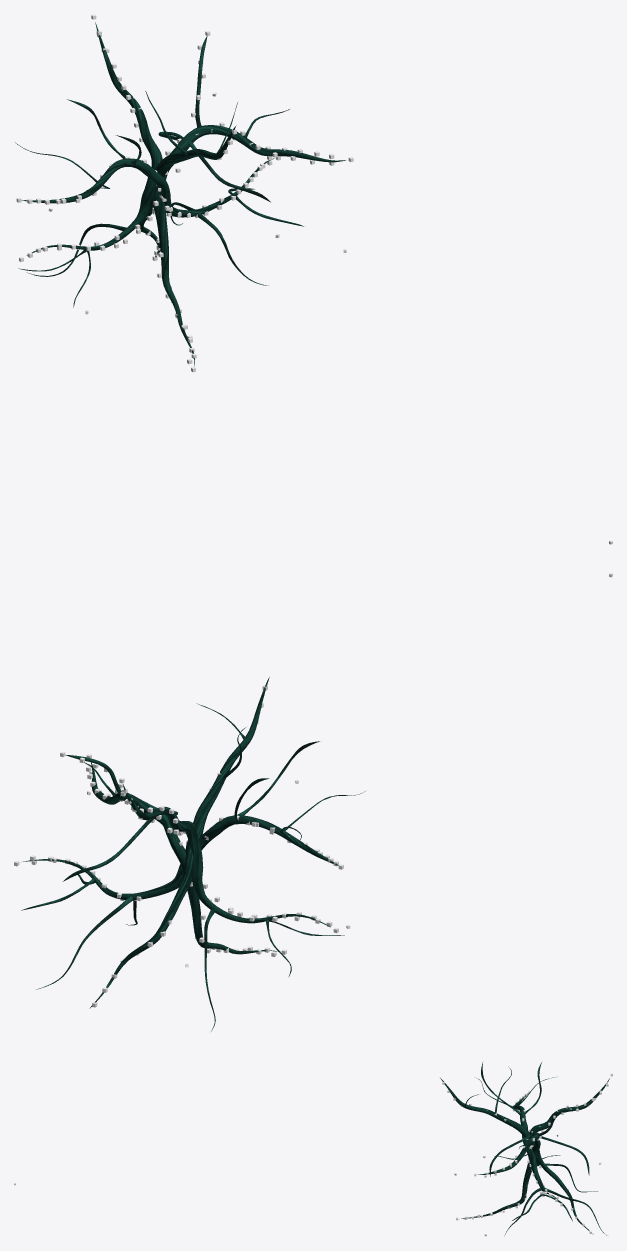
Rendered from tree_scene_009_modified_paths.glb.
3 renders of one model, top to bottom at view 1: azimuth 30°, elevation 25°; view 2: azimuth 150°, elevation 25°; view 3: azimuth 270°, elevation 25°, orthographic. The views are drawn at different scales.
Parts seen in each view (by area): view 1: GEO; view 2: GEO; view 3: GEO.
Part boxes in pixels (box(x1,y1,x2,y2)): GEO: box(15, 22, 345, 366); GEO: box(21, 677, 365, 1031); GEO: box(440, 1062, 609, 1235).
Size of the model in its own units: 879 by 731 by 2572.
Materials: 264 (1 with a texture image).
